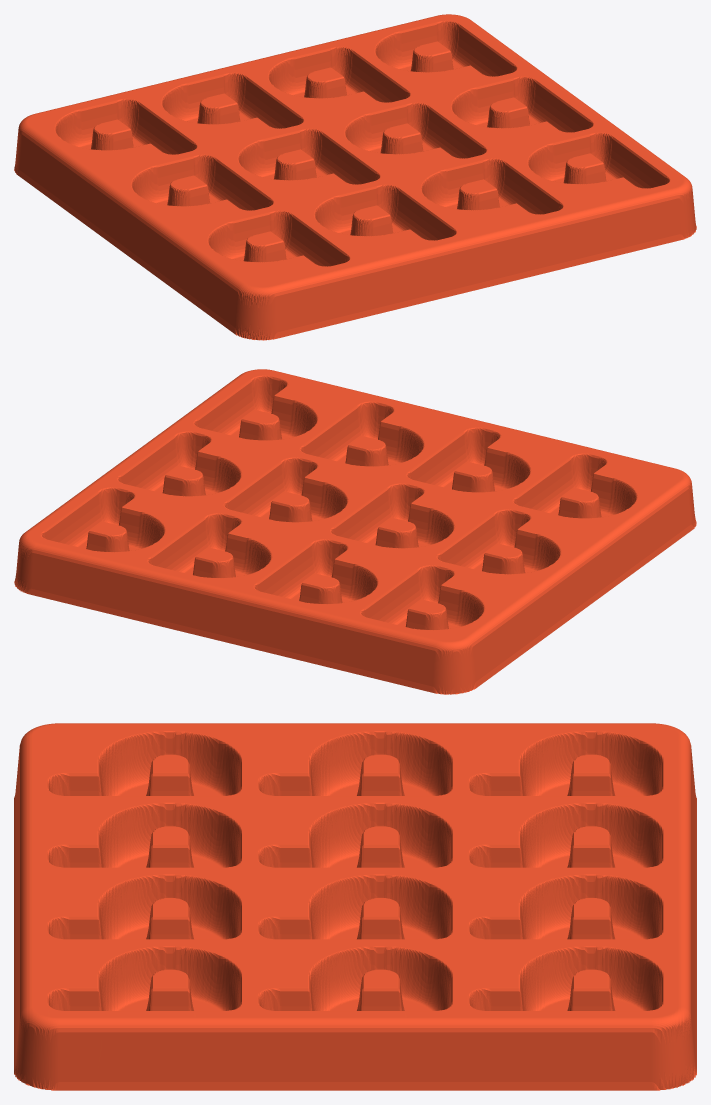
The model's file is mold.glb.
The picture shows the model from 3 angles, top to bottom: view 1: azimuth 30°, elevation 25°; view 2: azimuth 150°, elevation 25°; view 3: azimuth 270°, elevation 25°; orthographic projection. The views are drawn at different scales.
Visible parts, largest first — view 1: geometry_0; view 2: geometry_0; view 3: geometry_0.
Boxes of the visible parts, x1,y1,x2,y2 form: geometry_0: (14, 14, 696, 340); geometry_0: (14, 369, 696, 694); geometry_0: (14, 723, 696, 1090).
Bounding box in the file's own units: 0.1468 × 0.0145 × 0.1374.
